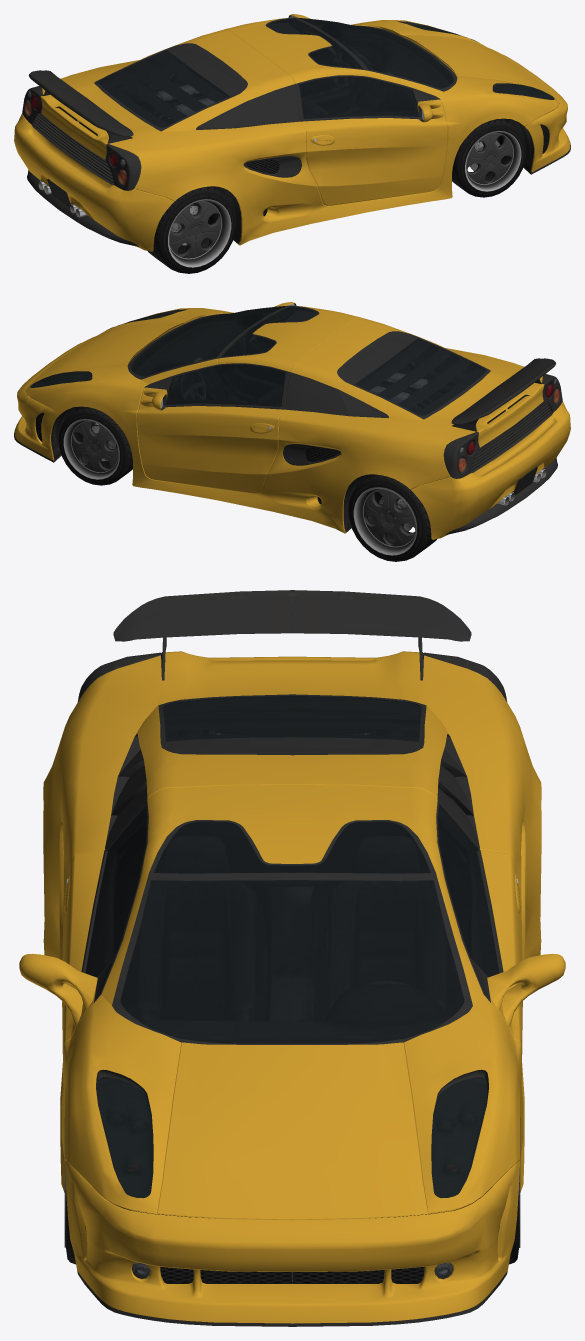
Rendered from car_supercar.glb.
The picture shows the model from 3 angles, top to bottom: view 1: azimuth 30°, elevation 25°; view 2: azimuth 150°, elevation 25°; view 3: azimuth 270°, elevation 25°; orthographic projection. The views are drawn at different scales.
Parts seen in each view (by area): view 1: Saba95_Body_Saba95_Bodymat_0, Saba95_Bottom_UCB_BOTTOM_0, Saba95_Interior_UCB_Interiors_1_0, Saba95_Bumper_Rear_Saba95_Bodymat_0, Saba95_Windshield_UCB_Lights_and_Glass_Transperent_0, Saba95_Trunkdoor_glass_UCB_Lights_and_Glass_Transperent_0, Saba95_WheelStock_RR_RB1c_Tire_1k_0, Saba95_Trunkdoor_UCB_BOTTOM_0, Saba95_WheelStock_FR_RB1c_Tire_1k_0, Saba95_Glass_Passanger_UCB_Lights_and_Glass_Transperent_0, Saba95_Hood_Saba95_Bodymat_0, Saba95_Spoiler_UCB_BOTTOM_0 (+6 smaller); view 2: Saba95_Body_Saba95_Bodymat_0, Saba95_Bottom_UCB_BOTTOM_0, Saba95_Interior_UCB_Interiors_1_0, Saba95_Bumper_Rear_Saba95_Bodymat_0, Saba95_Windshield_UCB_Lights_and_Glass_Transperent_0, Saba95_Trunkdoor_glass_UCB_Lights_and_Glass_Transperent_0, Saba95_WheelStock_RL_RB1c_Tire_1k_0, Saba95_Trunkdoor_UCB_BOTTOM_0, Saba95_WheelStock_FL_RB1c_Tire_1k_0, Saba95_Glass_Driver_UCB_Lights_and_Glass_Transperent_0, Saba95_Hood_Saba95_Bodymat_0, Saba95_Spoiler_UCB_BOTTOM_0 (+6 smaller); view 3: Saba95_Body_Saba95_Bodymat_0, Saba95_Interior_UCB_Interiors_1_0, Saba95_Windshield_UCB_Lights_and_Glass_Transperent_0, Saba95_Hood_Saba95_Bodymat_0, Saba95_Bumper_Front_Saba95_Bodymat_0, Saba95_Bottom_UCB_BOTTOM_0, Saba95_Spoiler_UCB_BOTTOM_0, Saba95_Trunkdoor_glass_UCB_Lights_and_Glass_Transperent_0, Saba95_Headlight_Glass_UCB_Lights_and_Glass_Transperent_0, Saba95_Trunkdoor_UCB_BOTTOM_0, Saba95_Bumper_Front_inner_UCB_BOTTOM_0, Saba95_Glass_Driver_UCB_Lights_and_Glass_Transperent_0 (+1 smaller).
Part boxes in pixels (bbox=[...]): Saba95_Body_Saba95_Bodymat_0: bbox=[40, 14, 558, 245]; Saba95_Bottom_UCB_BOTTOM_0: bbox=[22, 15, 557, 244]; Saba95_Interior_UCB_Interiors_1_0: bbox=[271, 19, 452, 118]; Saba95_Bumper_Rear_Saba95_Bodymat_0: bbox=[14, 113, 174, 251]; Saba95_Windshield_UCB_Lights_and_Glass_Transperent_0: bbox=[267, 18, 453, 88]; Saba95_Trunkdoor_glass_UCB_Lights_and_Glass_Transperent_0: bbox=[98, 50, 229, 127]; Saba95_WheelStock_RR_RB1c_Tire_1k_0: bbox=[148, 186, 236, 273]; Saba95_Trunkdoor_UCB_BOTTOM_0: bbox=[94, 43, 247, 131]; Saba95_WheelStock_FR_RB1c_Tire_1k_0: bbox=[452, 118, 526, 197]; Saba95_Glass_Passanger_UCB_Lights_and_Glass_Transperent_0: bbox=[299, 76, 418, 118]; Saba95_Hood_Saba95_Bodymat_0: bbox=[402, 35, 554, 96]; Saba95_Spoiler_UCB_BOTTOM_0: bbox=[29, 70, 133, 143]; Saba95_Body_Saba95_Bodymat_0: bbox=[26, 302, 544, 533]; Saba95_Bottom_UCB_BOTTOM_0: bbox=[27, 303, 562, 532]; Saba95_Interior_UCB_Interiors_1_0: bbox=[132, 307, 313, 406]; Saba95_Bumper_Rear_Saba95_Bodymat_0: bbox=[410, 401, 570, 539]; Saba95_Windshield_UCB_Lights_and_Glass_Transperent_0: bbox=[131, 306, 317, 376]; Saba95_Trunkdoor_glass_UCB_Lights_and_Glass_Transperent_0: bbox=[355, 338, 486, 415]; Saba95_WheelStock_RL_RB1c_Tire_1k_0: bbox=[348, 474, 436, 561]; Saba95_Trunkdoor_UCB_BOTTOM_0: bbox=[337, 331, 490, 419]; Saba95_WheelStock_FL_RB1c_Tire_1k_0: bbox=[58, 406, 132, 485]; Saba95_Glass_Driver_UCB_Lights_and_Glass_Transperent_0: bbox=[166, 364, 285, 406]; Saba95_Hood_Saba95_Bodymat_0: bbox=[30, 323, 182, 384]; Saba95_Spoiler_UCB_BOTTOM_0: bbox=[451, 358, 555, 431]; Saba95_Body_Saba95_Bodymat_0: bbox=[19, 651, 565, 1213]; Saba95_Interior_UCB_Interiors_1_0: bbox=[86, 807, 498, 1042]; Saba95_Windshield_UCB_Lights_and_Glass_Transperent_0: bbox=[120, 821, 464, 1043]; Saba95_Hood_Saba95_Bodymat_0: bbox=[157, 1042, 427, 1220]; Saba95_Bumper_Front_Saba95_Bodymat_0: bbox=[65, 1160, 519, 1323]; Saba95_Bottom_UCB_BOTTOM_0: bbox=[66, 652, 518, 1218]; Saba95_Spoiler_UCB_BOTTOM_0: bbox=[113, 590, 471, 680]; Saba95_Trunkdoor_glass_UCB_Lights_and_Glass_Transperent_0: bbox=[163, 696, 421, 741]; Saba95_Headlight_Glass_UCB_Lights_and_Glass_Transperent_0: bbox=[97, 1077, 487, 1198]; Saba95_Trunkdoor_UCB_BOTTOM_0: bbox=[158, 694, 426, 755]; Saba95_Bumper_Front_inner_UCB_BOTTOM_0: bbox=[77, 1225, 507, 1326]; Saba95_Glass_Driver_UCB_Lights_and_Glass_Transperent_0: bbox=[438, 806, 499, 977].
Bounding box in the file's own units: 4.51 × 1.32 × 2.18.
6 materials, 5 textured.
